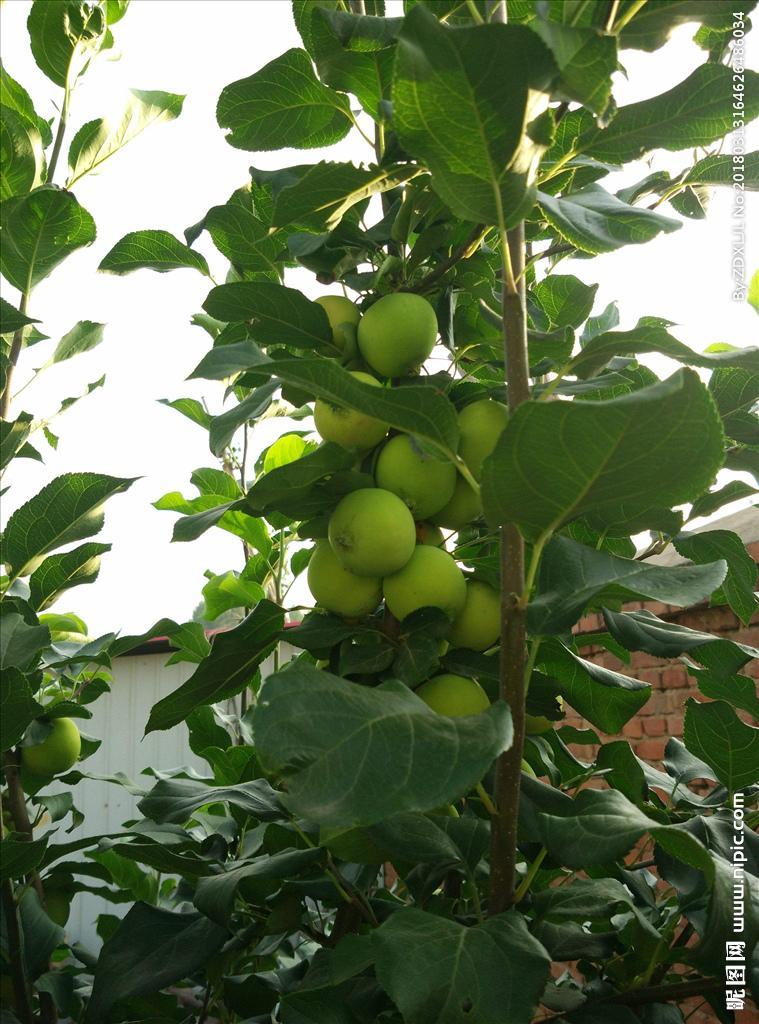apple: (371, 430, 456, 522), (329, 489, 415, 576), (355, 291, 438, 380), (380, 542, 463, 624), (309, 546, 383, 623), (19, 716, 83, 779), (311, 398, 387, 450), (449, 578, 501, 649), (455, 399, 508, 464), (313, 296, 360, 340)
